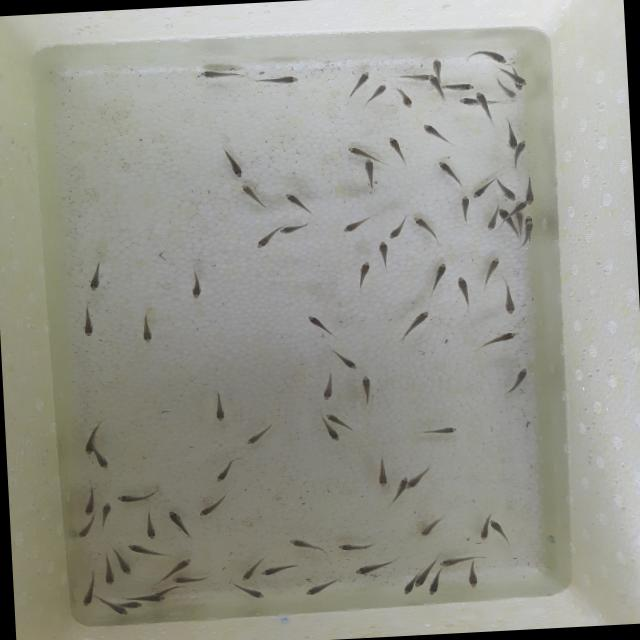fingerling: (396, 308, 433, 346), (196, 488, 236, 520), (282, 189, 322, 218), (162, 508, 196, 542), (409, 212, 444, 245), (499, 364, 532, 399), (472, 328, 520, 352), (302, 312, 340, 342), (284, 533, 329, 558), (386, 134, 418, 168), (432, 158, 466, 190), (352, 556, 401, 578), (210, 452, 243, 484), (301, 576, 346, 599), (335, 212, 378, 236), (421, 118, 452, 150), (425, 260, 451, 298), (218, 145, 246, 180), (454, 275, 479, 314), (115, 484, 160, 505), (136, 507, 163, 541), (183, 268, 210, 302), (85, 257, 109, 295), (238, 180, 268, 210), (242, 422, 278, 447), (76, 302, 100, 339), (255, 73, 308, 89), (414, 421, 461, 439), (330, 346, 361, 373), (470, 45, 508, 67), (480, 254, 504, 288), (136, 308, 157, 346), (195, 67, 246, 82), (500, 278, 520, 316), (371, 452, 391, 490), (357, 372, 378, 408), (260, 560, 302, 578), (233, 582, 270, 602), (126, 541, 166, 559), (489, 518, 512, 548), (474, 90, 493, 126), (334, 540, 379, 555), (355, 259, 376, 291), (418, 516, 446, 540), (210, 388, 228, 425), (365, 81, 391, 106), (362, 158, 380, 194), (374, 240, 390, 280), (165, 554, 195, 575), (490, 77, 516, 101), (471, 177, 497, 200), (495, 176, 518, 202), (387, 215, 409, 242), (438, 554, 480, 568), (100, 556, 118, 588), (394, 85, 416, 111), (252, 230, 278, 252), (321, 371, 339, 402), (456, 194, 473, 226), (99, 500, 116, 532), (500, 120, 518, 150), (81, 486, 99, 516), (169, 573, 214, 585), (80, 576, 96, 608), (348, 70, 374, 89), (75, 517, 96, 540), (238, 562, 261, 582), (279, 221, 310, 235), (466, 562, 481, 590), (427, 572, 443, 598), (126, 593, 167, 603), (116, 552, 132, 576), (524, 175, 536, 206), (345, 144, 369, 159), (446, 81, 476, 93), (324, 424, 342, 444), (523, 221, 536, 247), (430, 54, 446, 74), (78, 438, 95, 456), (94, 452, 110, 470), (413, 572, 430, 588), (456, 95, 476, 108), (478, 522, 490, 542), (511, 72, 528, 86), (111, 606, 129, 618), (485, 217, 499, 232), (428, 72, 439, 90), (405, 478, 421, 490), (124, 600, 142, 610), (399, 584, 414, 596), (516, 140, 528, 154), (514, 200, 528, 212), (324, 412, 340, 422), (498, 207, 510, 219), (398, 476, 409, 484)
